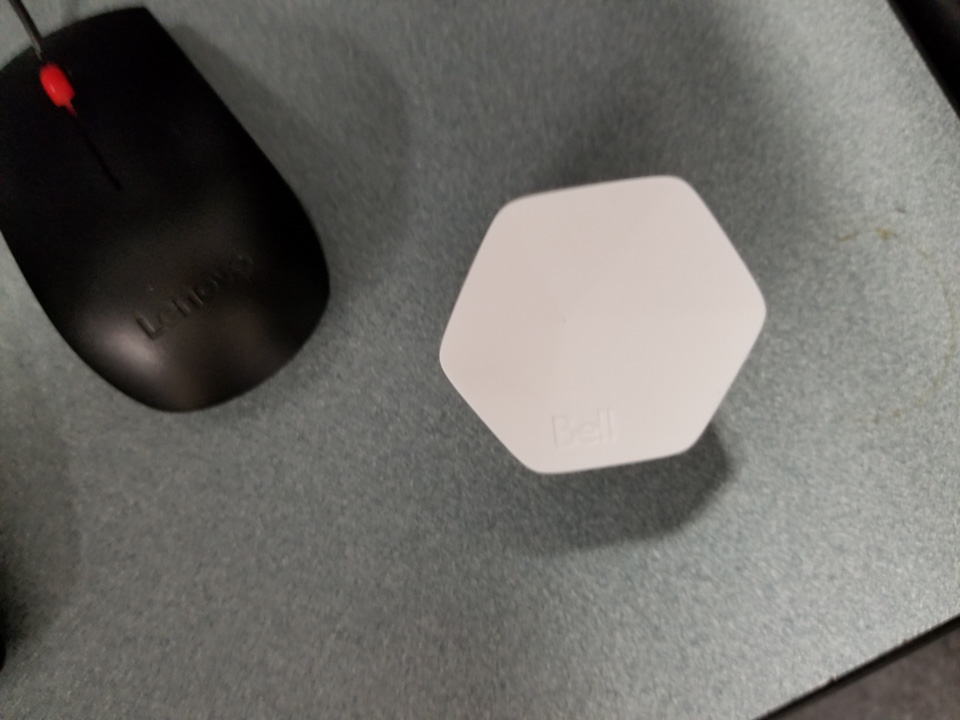pod: (432, 168, 782, 478)
